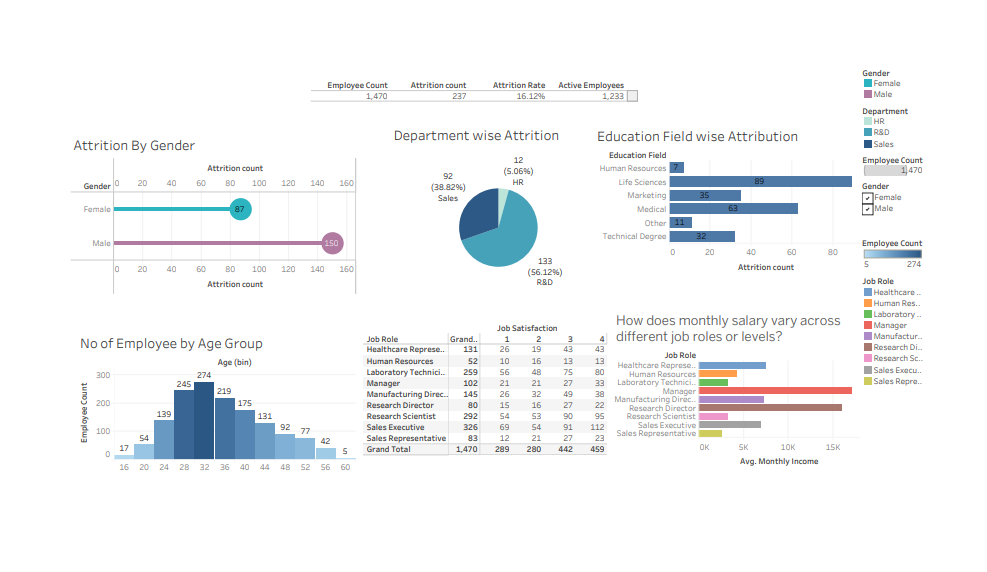

Layout of this report page (visuals, bound fields, positions):
{"tool":"tableau","page":{"name":"Dashboard 1","canvas":[1650,900],"ordinal":0},"visuals":[{"type":"legend","title":"Sheet 2","param":"[federated.1dactl911o93yo142s0fr1o97bol].[none:Gender:nk]","box":[1517,8,125,72]},{"type":"worksheet","title":"Sheet 1","mark":"Automatic","box":[479.4,38,661.8,41]},{"type":"legend","title":"Sheet 4","param":"[federated.1dactl911o93yo142s0fr1o97bol].[none:Department:nk]","box":[1517,80,125,93]},{"type":"worksheet","title":"Sheet 2","mark":"Automatic","rows":["Gender"],"cols":["Calculation_247416566962245632","Calculation_247416566962245632"],"box":[31,119,539,306]},{"type":"worksheet","title":"Sheet 4","mark":"Pie","box":[599,120,404,347]},{"type":"worksheet","title":"Sheet 8","mark":"Automatic","rows":["Education Field"],"cols":["Calculation_247416566962245632"],"box":[985,124,504,289]},{"type":"legend","title":"Sheet 4","param":"[federated.1dactl911o93yo142s0fr1o97bol].[sum:Employee Count:qk]","box":[1517,173,125,51]},{"type":"filter","title":"Sheet 2","param":"[federated.1dactl911o93yo142s0fr1o97bol].[none:Gender:nk]","box":[1517,224,125,105]},{"type":"legend","title":"Sheet 5","param":"[federated.1dactl911o93yo142s0fr1o97bol].[sum:Employee Count:qk]","box":[1517,329,125,73]},{"type":"legend","title":"Sheet 14","param":"[federated.1dactl911o93yo142s0fr1o97bol].[none:Job Role:nk]","box":[1517,402,125,219]},{"type":"worksheet","title":"Sheet 14","mark":"Automatic","rows":["Job Role"],"cols":["Monthly Income"],"box":[1018,475,481,307]},{"type":"worksheet","title":"Sheet 7","mark":"Automatic","rows":["Job Role"],"cols":["Job Satisfaction"],"box":[578,482,411,280]},{"type":"worksheet","title":"Sheet 5","mark":"Automatic","rows":["Employee Count"],"cols":["Age (bin)"],"box":[34,490,525,270]}]}

Visuals, with their boxes on the page's 1650x900 design canvas (x1, y1, x2, y2). These are canvas units, not pixel positions in the 987x572 screenshot, which may show the page scaled, cropped or inside an application window:
"Sheet 2" legend: (1517,8,1642,80)
"Sheet 1" worksheet: (479,38,1141,79)
"Sheet 4" legend: (1517,80,1642,173)
"Sheet 2" worksheet: (31,119,570,425)
"Sheet 4" worksheet (Pie marks): (599,120,1003,467)
"Sheet 8" worksheet: (985,124,1489,413)
"Sheet 4" legend: (1517,173,1642,224)
"Sheet 2" filter: (1517,224,1642,329)
"Sheet 5" legend: (1517,329,1642,402)
"Sheet 14" legend: (1517,402,1642,621)
"Sheet 14" worksheet: (1018,475,1499,782)
"Sheet 7" worksheet: (578,482,989,762)
"Sheet 5" worksheet: (34,490,559,760)
